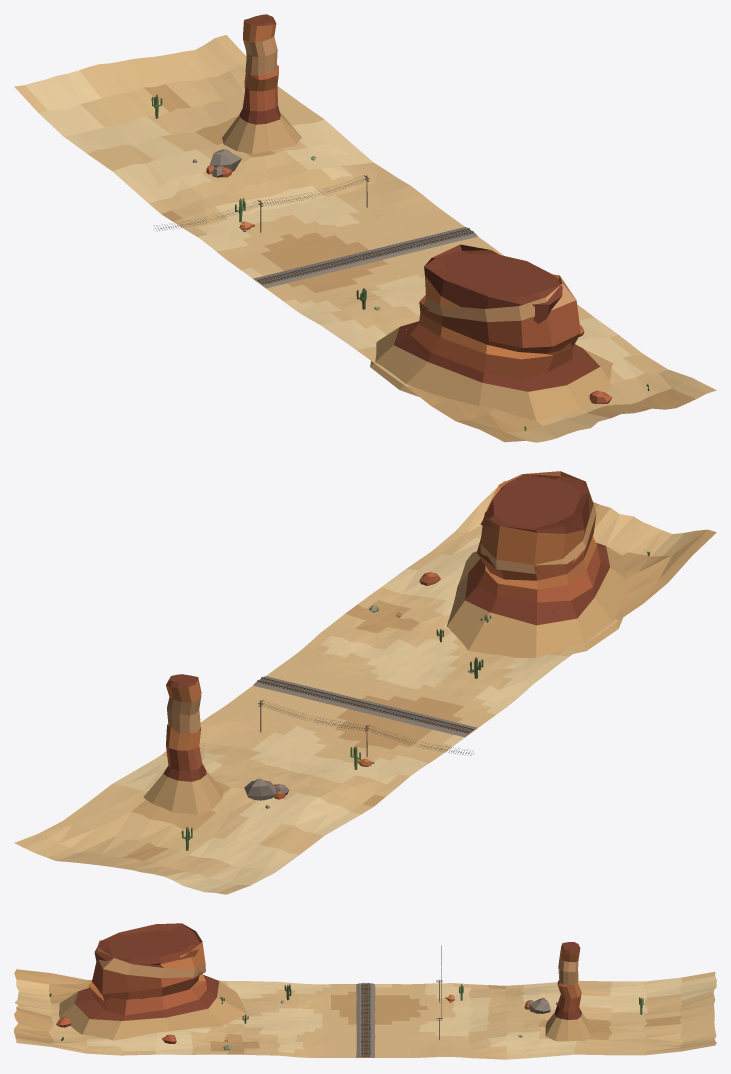
File: SM_FG_Chunk_Mesa_A.fbx
3 views of the same model, one above another, from view 1: azimuth 30°, elevation 25°; view 2: azimuth 150°, elevation 25°; view 3: azimuth 270°, elevation 25° (orthographic). The views are drawn at different scales.
Parts seen in each view (by area): view 1: FG_Chunk_Mesa_A_Track; view 2: FG_Chunk_Mesa_A_Track; view 3: FG_Chunk_Mesa_A_Track.
Boxes of the visible parts, x1,y1,x2,y2 form: FG_Chunk_Mesa_A_Track: (14,14,716,442); FG_Chunk_Mesa_A_Track: (14,471,716,894); FG_Chunk_Mesa_A_Track: (14,923,716,1059).
Bounding box in the file's own units: 6250 × 2832 × 20111.
